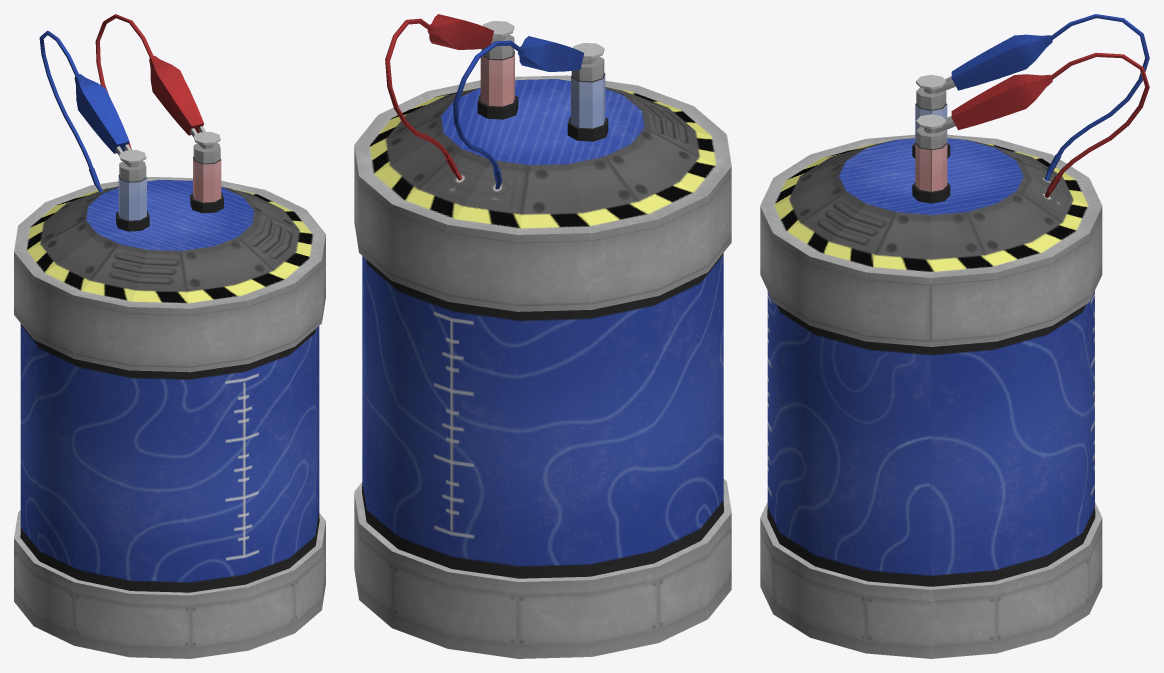
Rendered from electrode_L.fbx.
3 views of the same model, side by side, from view 1: azimuth 30°, elevation 25°; view 2: azimuth 150°, elevation 25°; view 3: azimuth 270°, elevation 25° (orthographic). The views are drawn at different scales.
Parts seen in each view (by area): view 1: Electrode_L; view 2: Electrode_L; view 3: Electrode_L.
Boxes of the visible parts, bbox=[...] form: Electrode_L: bbox=[14, 14, 325, 658]; Electrode_L: bbox=[354, 14, 731, 658]; Electrode_L: bbox=[760, 14, 1149, 658].
Bounding box in the file's own units: 73.17 × 131 × 83.3.
2 materials, 2 textured.
